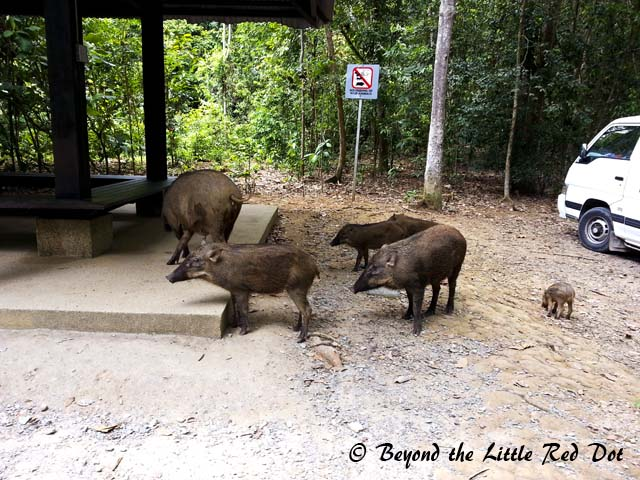boar: (161, 236, 331, 346), (350, 222, 469, 339)
